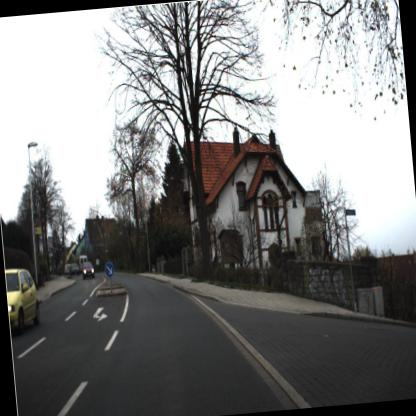mandatory: (102, 260, 116, 281)
